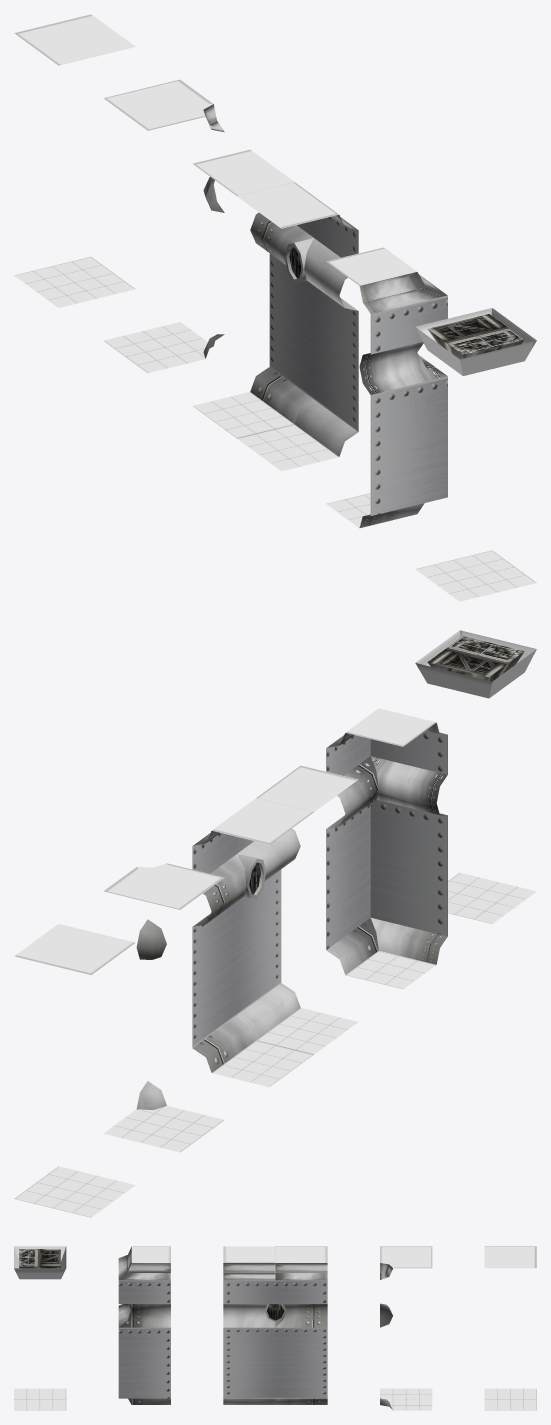
Rendered from tileset1.glb.
The picture shows the model from 3 angles, top to bottom: view 1: azimuth 30°, elevation 25°; view 2: azimuth 150°, elevation 25°; view 3: azimuth 270°, elevation 25°; orthographic projection. The views are drawn at different scales.
Parts seen in each view (by area): view 1: testset12.001-col, testset12.004-col, testset12.002-col, testset12.005-col, testset12.003-col, testset12.006-col; view 2: testset12.001-col, testset12.002-col, testset12.004-col, testset12.005-col, testset12.003-col, testset12.006-col; view 3: testset12.002-col, testset12.004-col, testset12.001-col, testset12.005-col, testset12.003-col, testset12.006-col.
Boxes of the visible parts, x1,y1,x2,y2 form: testset12.001-col: (326, 247, 447, 528); testset12.004-col: (237, 182, 358, 471); testset12.002-col: (192, 149, 313, 438); testset12.005-col: (415, 308, 536, 601); testset12.003-col: (103, 79, 224, 373); testset12.006-col: (14, 14, 135, 307); testset12.001-col: (326, 708, 447, 989); testset12.002-col: (192, 798, 313, 1087); testset12.004-col: (237, 765, 358, 1054); testset12.005-col: (415, 630, 536, 923); testset12.003-col: (103, 863, 224, 1152); testset12.006-col: (14, 924, 135, 1217); testset12.002-col: (275, 1246, 327, 1404); testset12.004-col: (223, 1246, 275, 1404); testset12.001-col: (118, 1246, 170, 1404); testset12.005-col: (14, 1246, 66, 1410); testset12.003-col: (380, 1246, 432, 1410); testset12.006-col: (484, 1246, 536, 1410).
Size of the model in its own units: 1 by 3 by 10.
1 material, 1 textured.
